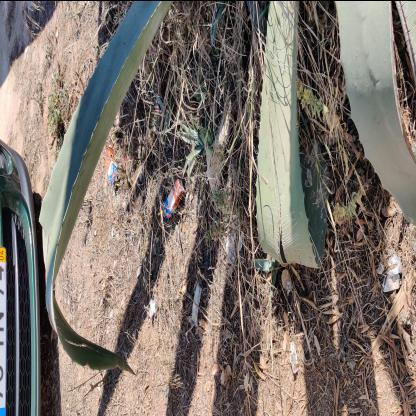karton: (163, 178, 185, 218), (104, 143, 119, 185)
